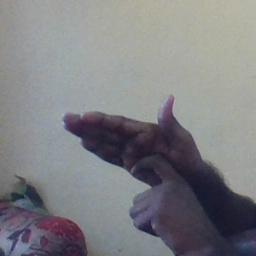R: (61, 96, 200, 229)
